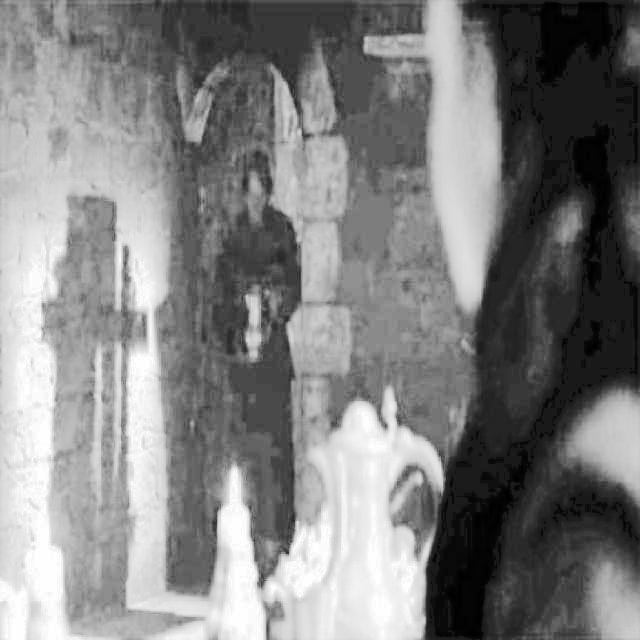Person: (219, 142, 307, 567)
